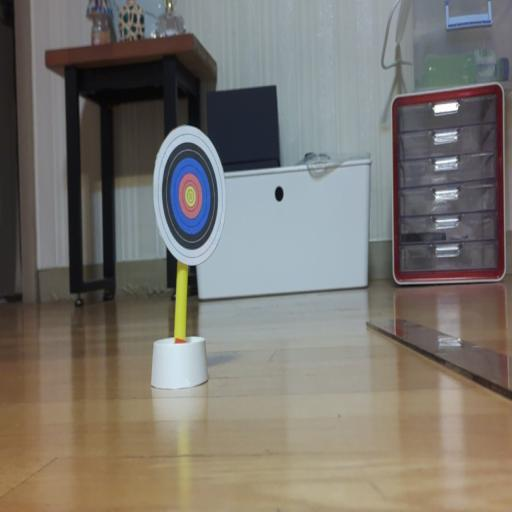target: (153, 126, 226, 265)
